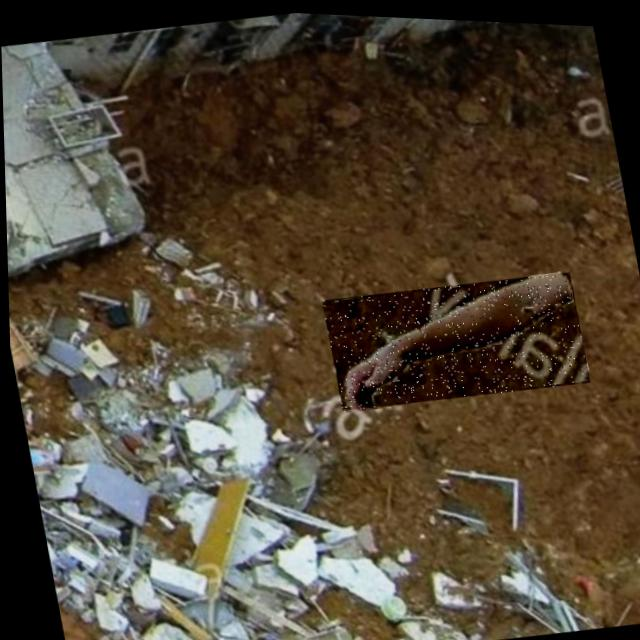Person in Rubble: (320, 258, 589, 416)
